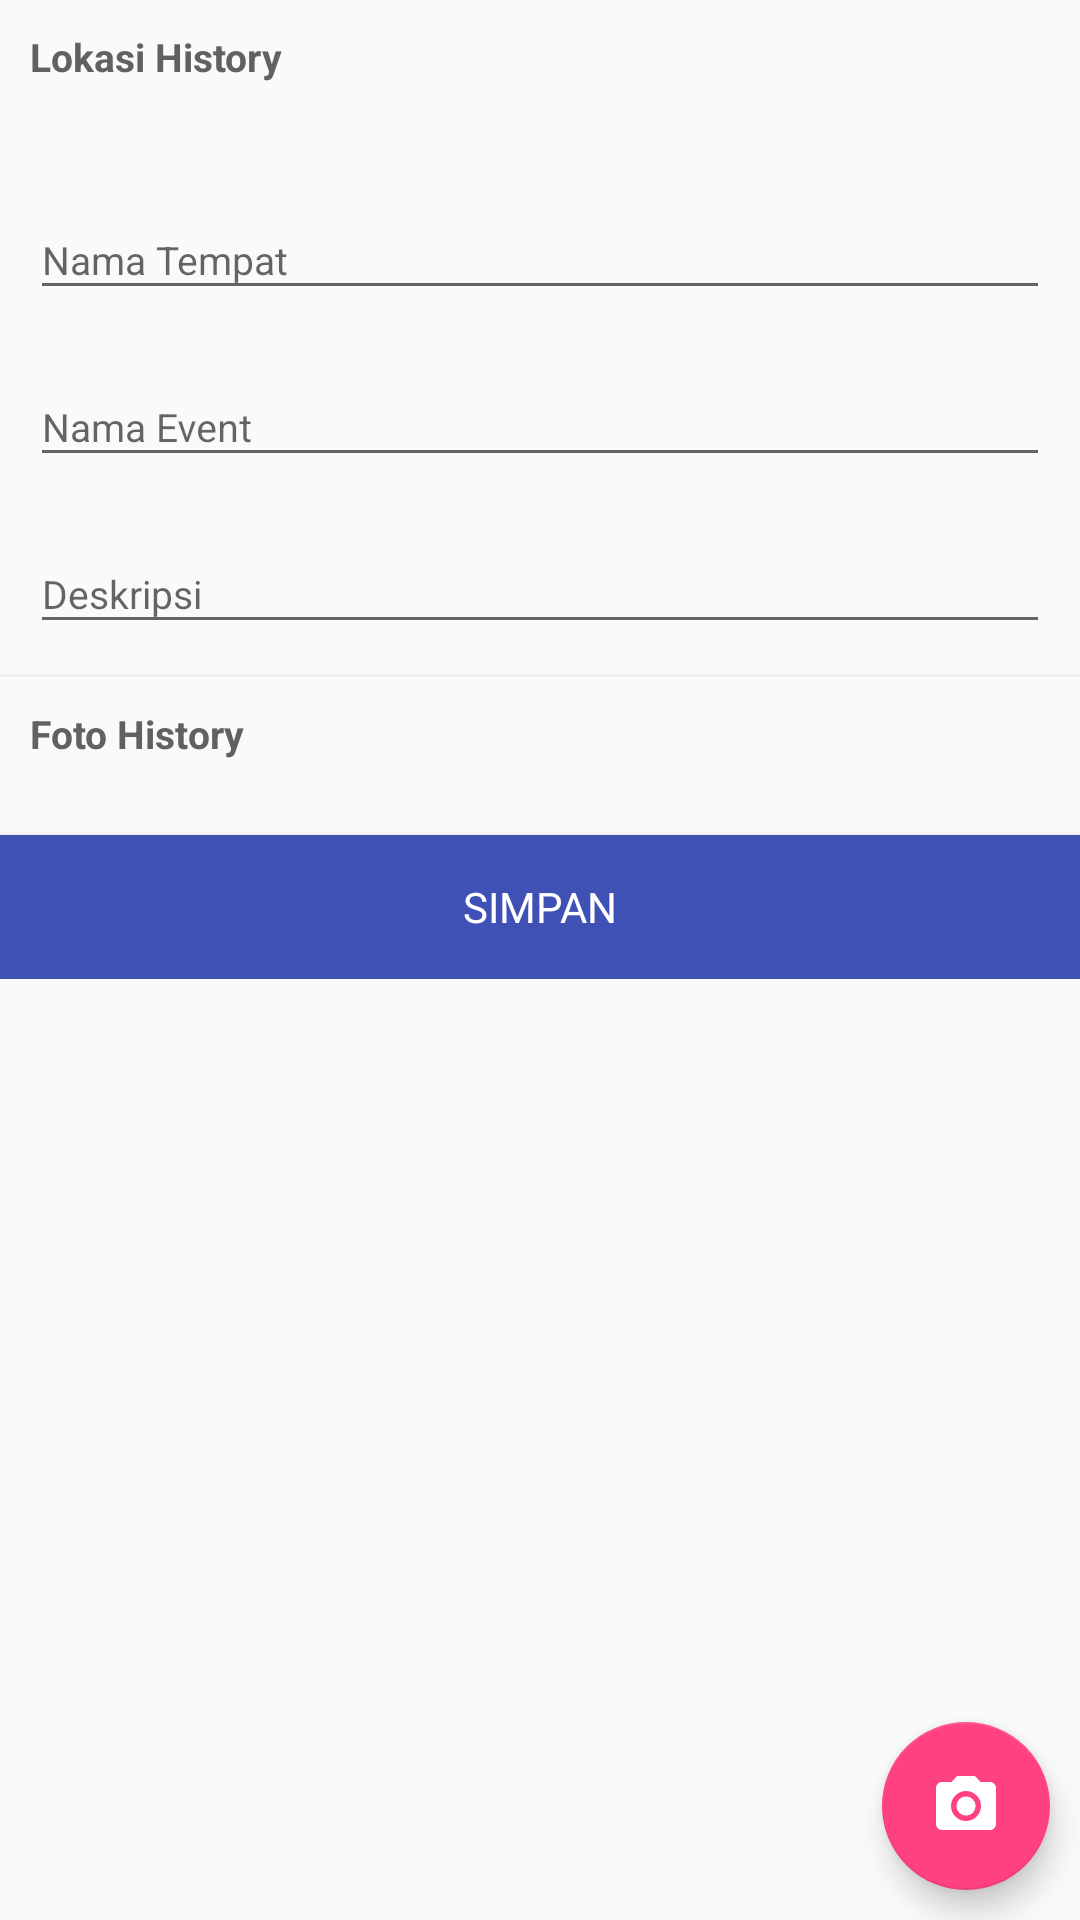

Icons on this 1080*1920 Android screen, each with the point to tap as (x=x, y=y):
camera: (x=966, y=1806)
